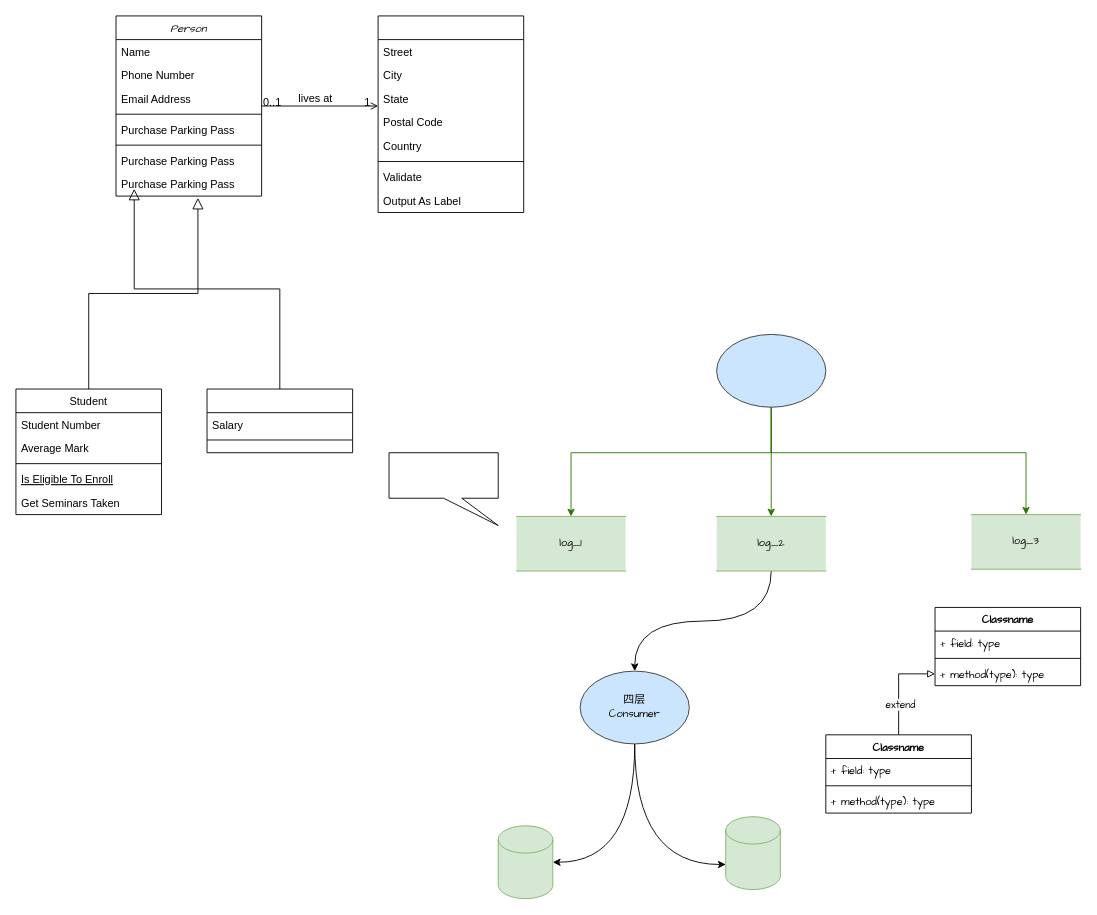
Image size: 1097x915. Some labels were removed from this diagram. Each missing label, with the box of its shape:
Address: (377, 15, 524, 212)
Professor: (206, 388, 353, 453)
二层 Consumer: (716, 334, 826, 407)
